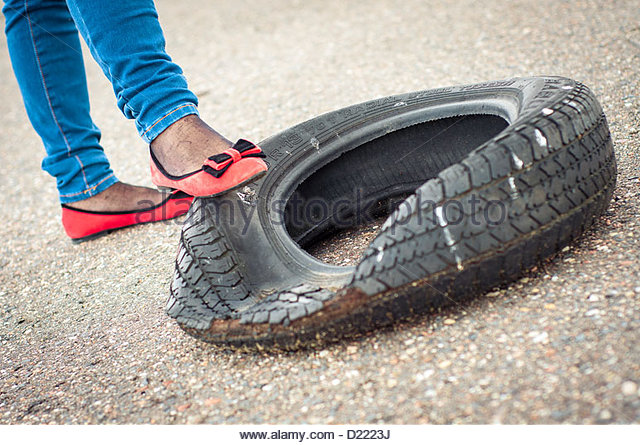tire: (165, 76, 618, 354)
